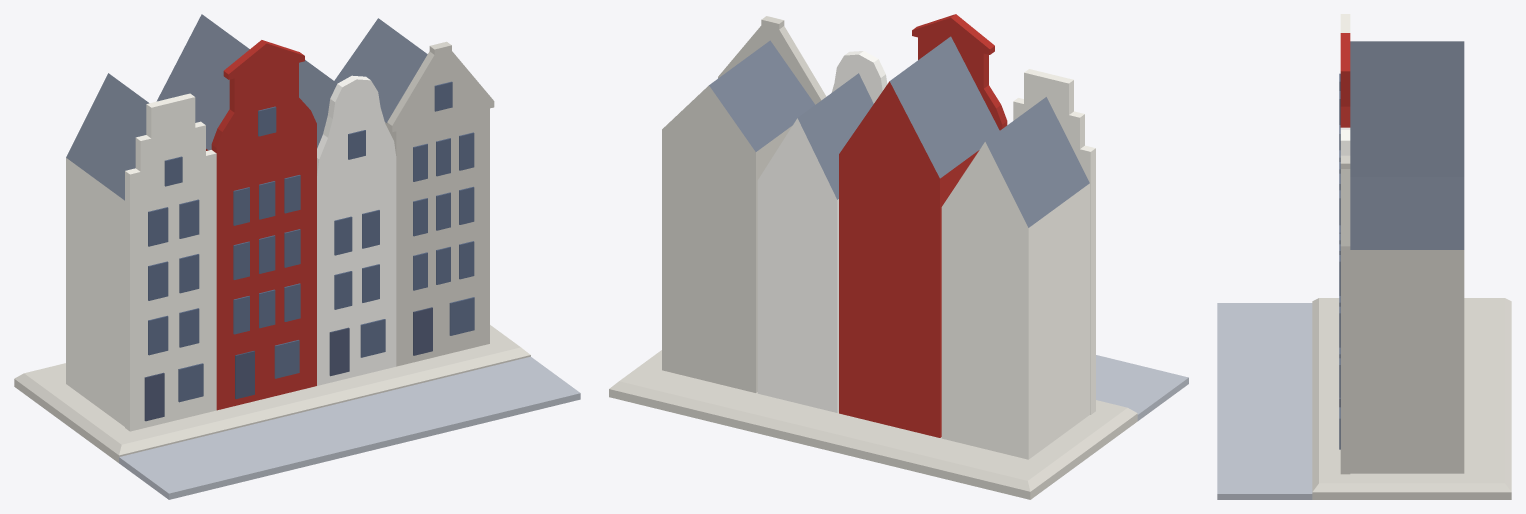
Rendered from amsterdam.glb.
3 renders of one model, left to right at view 1: azimuth 30°, elevation 25°; view 2: azimuth 150°, elevation 25°; view 3: azimuth 270°, elevation 25°, orthographic. The views are drawn at different scales.
Parts seen in each view (by area): view 1: model; view 2: model; view 3: model.
Part boxes in pixels (x1=…): model: x1=14, y1=14, x2=580, y2=499; model: x1=609, y1=14, x2=1188, y2=499; model: x1=1217, y1=14, x2=1511, y2=499.
Size of the model in its own units: 23.8 by 20.4 by 15.5.
